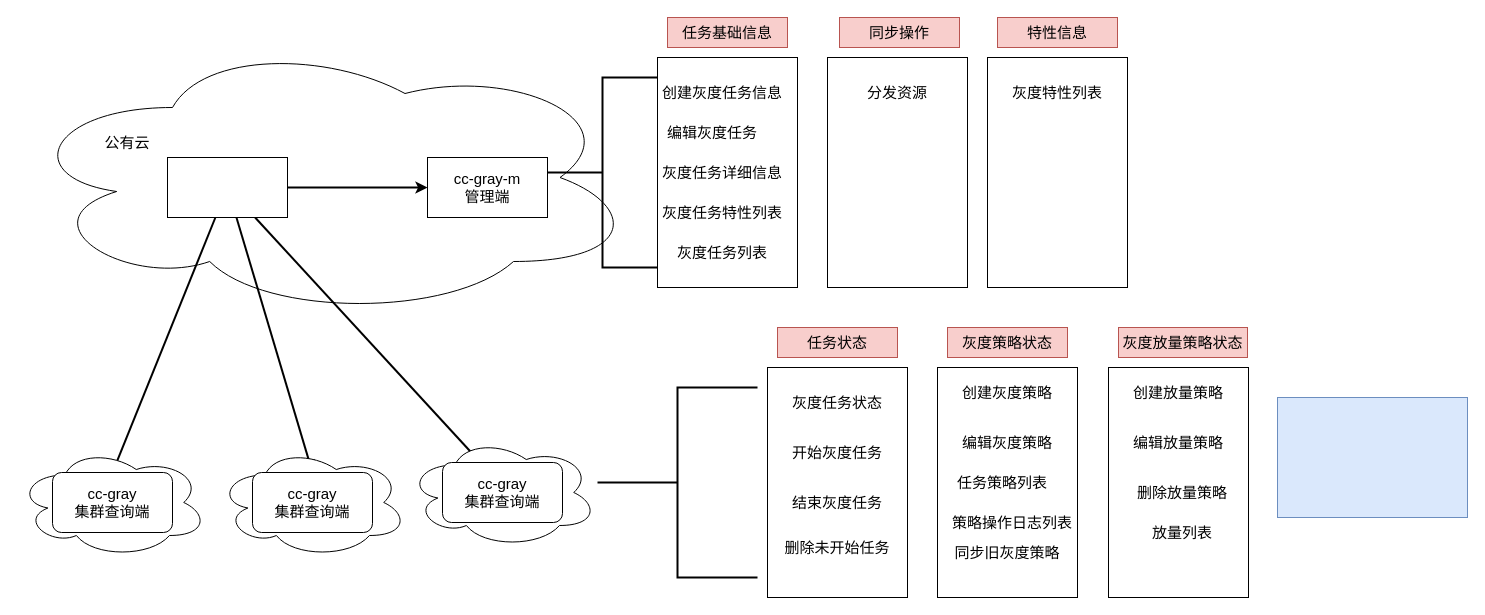
Image size: 1485x615. Some labels were removed from this diagram. Here are the shapes that lost their labels. From the top down, the centre of each, then its label:
(227,187): BFF层
(1372,457): 要点 需要指定集群
